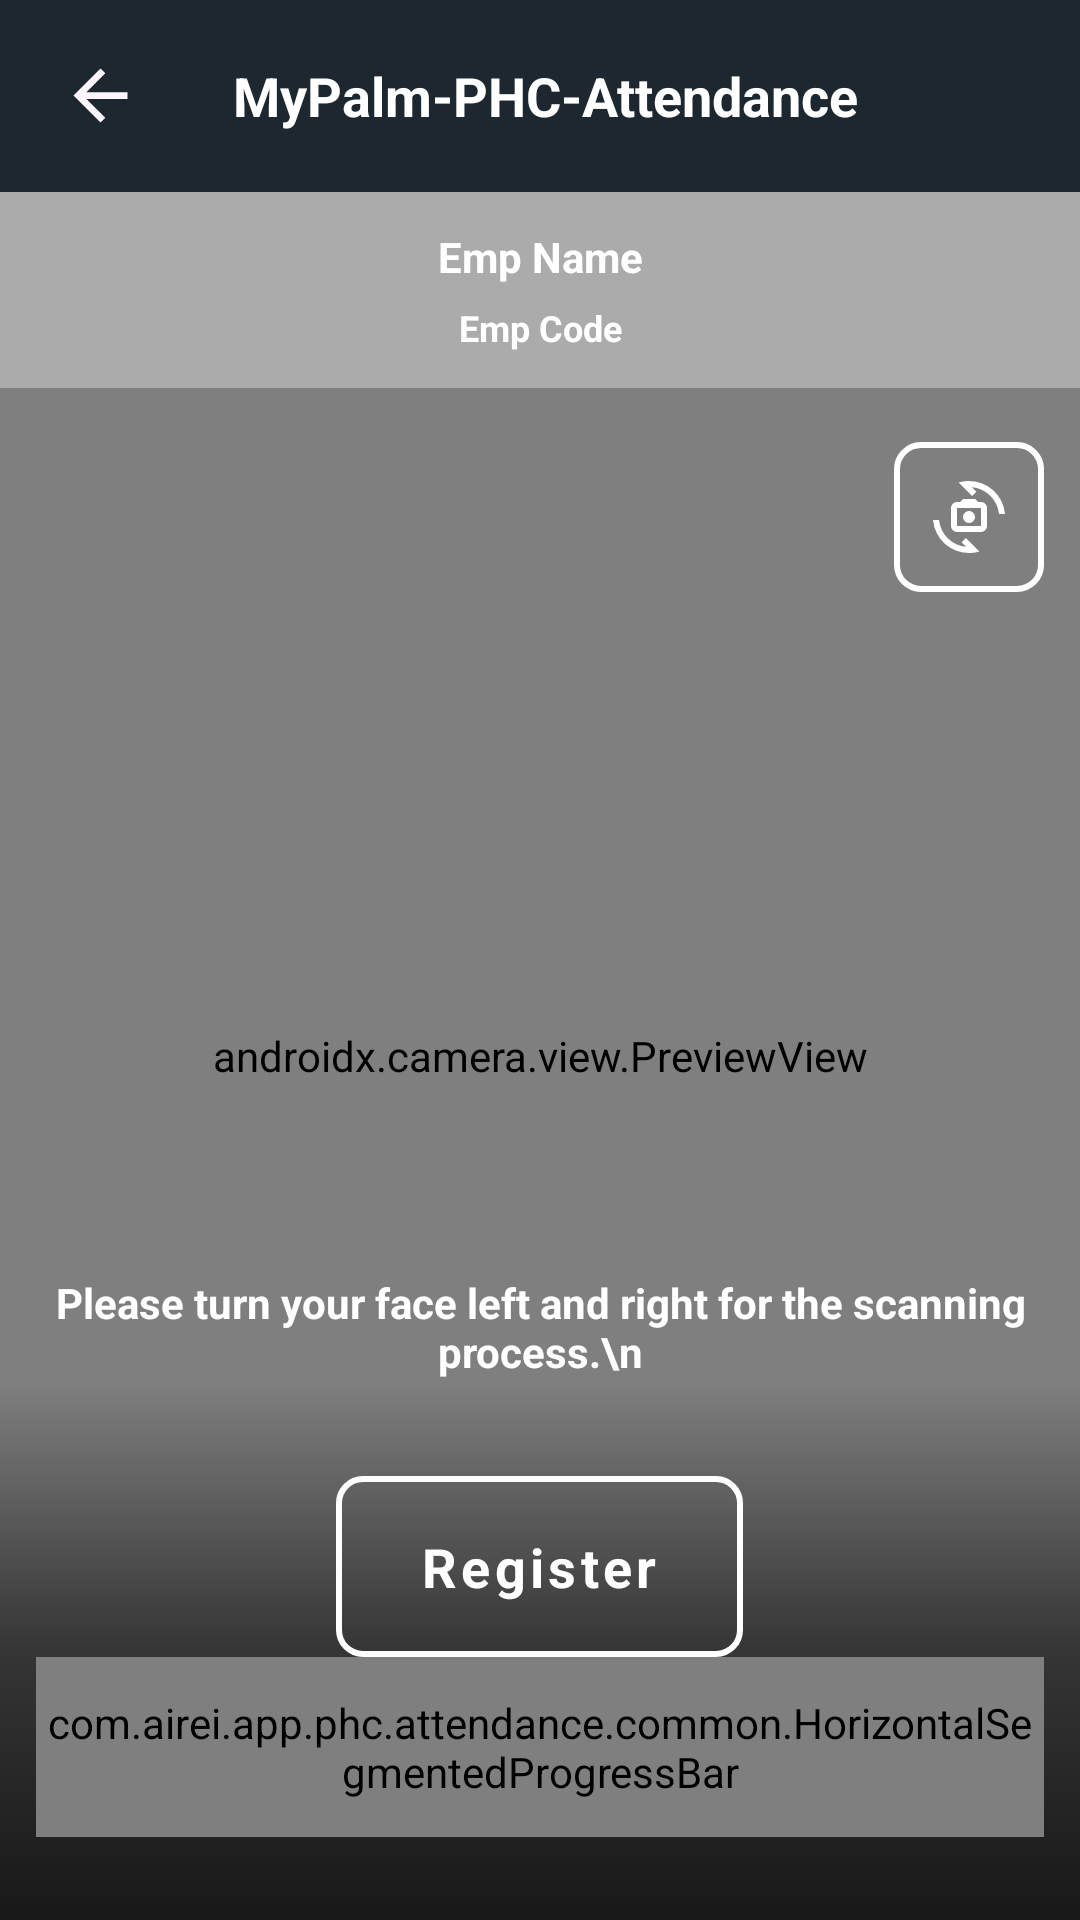

Where icons sit on this 1080px x 1920px app screen, as (x1,y1,x2,y2):
arrow back: (73,68,128,123)
camera switch: (894,442,1044,592)
